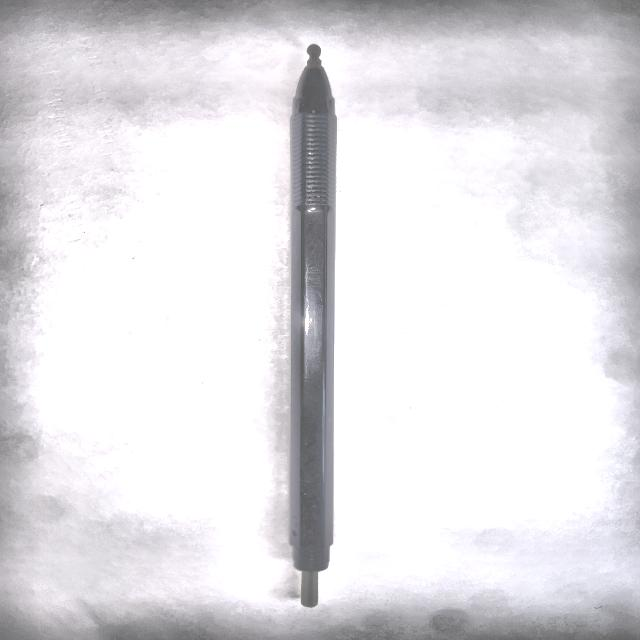Pulpen: (259, 39, 364, 614)
